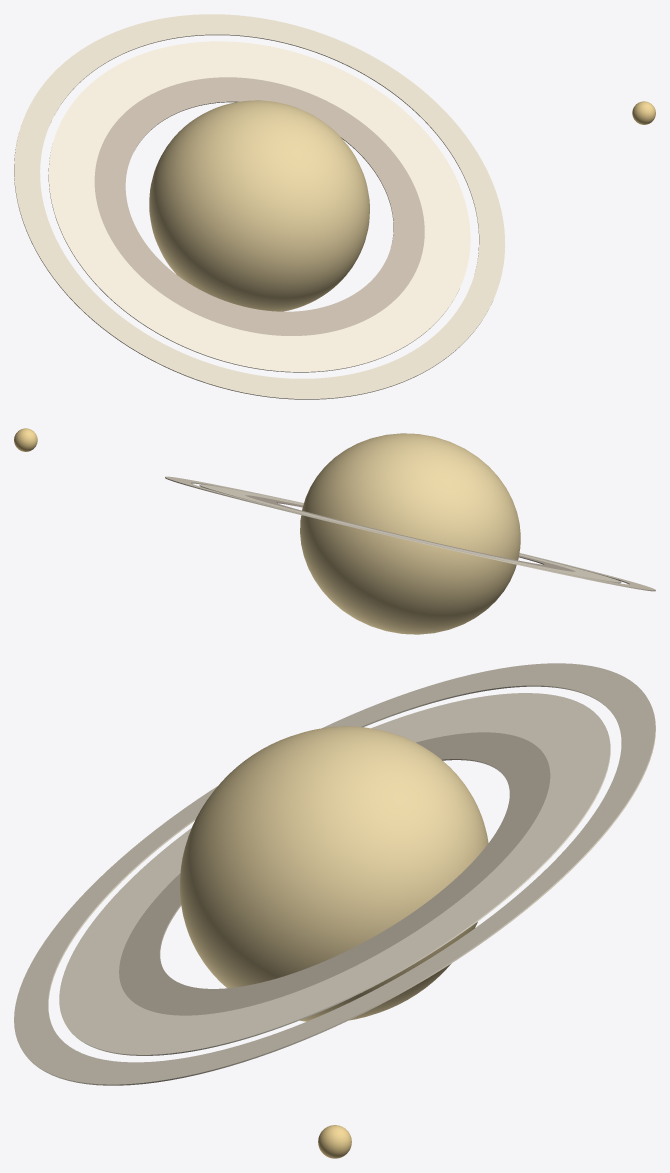
Rendered from saturn-nasa.glb.
3 views of the same model, one above another, from view 1: azimuth 30°, elevation 25°; view 2: azimuth 150°, elevation 25°; view 3: azimuth 270°, elevation 25° (orthographic). The views are drawn at different scales.
Parts seen in each view (by area): view 1: b_ring, saturn, a_ring, c_ring; view 2: saturn, a_ring, b_ring, c_ring, titan; view 3: saturn, b_ring, a_ring, c_ring, titan.
Part boxes in pixels (<box>): b_ring: <box>48,41,470,372</box>; saturn: <box>149,100,369,311</box>; a_ring: <box>14,14,505,399</box>; c_ring: <box>94,77,424,335</box>; saturn: <box>300,433,520,634</box>; a_ring: <box>165,476,655,591</box>; b_ring: <box>199,484,621,583</box>; c_ring: <box>245,495,575,571</box>; titan: <box>14,428,37,451</box>; saturn: <box>180,726,488,1021</box>; b_ring: <box>59,693,610,1055</box>; a_ring: <box>14,663,655,1085</box>; c_ring: <box>119,732,550,1015</box>; titan: <box>318,1125,351,1158</box>.
Size of the model in its own units: 0.3826 by 0.1229 by 0.2435.
